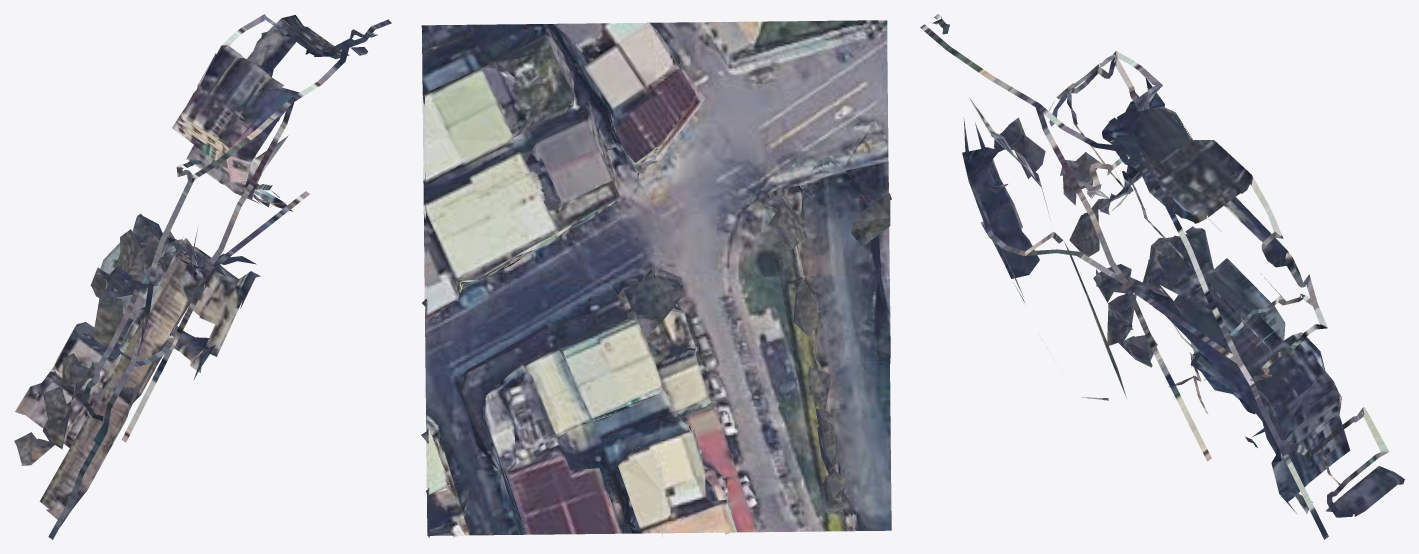
The picture shows the model from 3 angles, left to right: view 1: azimuth 30°, elevation 25°; view 2: azimuth 150°, elevation 25°; view 3: azimuth 270°, elevation 25°; orthographic projection. The views are drawn at different scales.
Bounding box in the file's own units: 73.29 × 78.35 × 76.19.
Materials: 1 (1 with a texture image).
